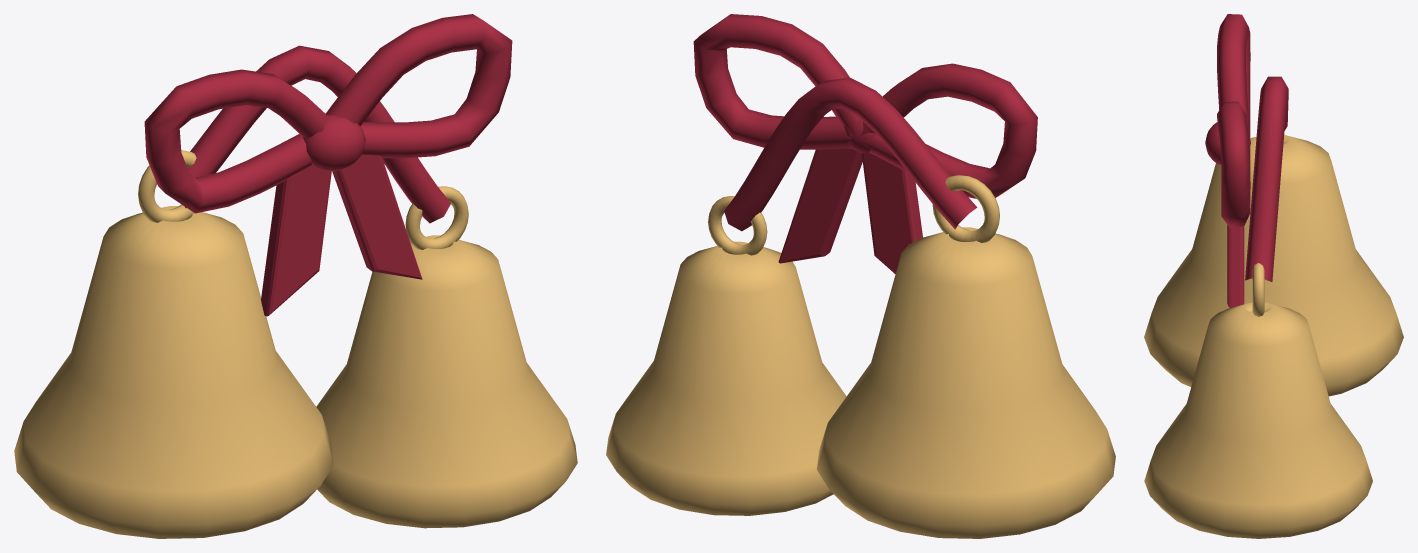
Rendered from christmas-storybook-twin-christmas-bells-ca2228c2__18738.glb.
3 views of the same model, side by side, from view 1: azimuth 30°, elevation 25°; view 2: azimuth 150°, elevation 25°; view 3: azimuth 270°, elevation 25° (orthographic). The views are drawn at different scales.
Parts seen in each view (by area): view 1: brass, berry; view 2: brass, berry; view 3: brass, berry.
Boxes of the visible parts, box(x1,y1,x2,y2) form: brass: box(14, 150, 577, 538); berry: box(144, 14, 512, 316); brass: box(606, 175, 1115, 538); berry: box(693, 14, 1037, 273); brass: box(1144, 135, 1403, 538); berry: box(1205, 14, 1288, 308).
Bounding box in the file's own units: 0.6296 × 0.5597 × 0.34.
